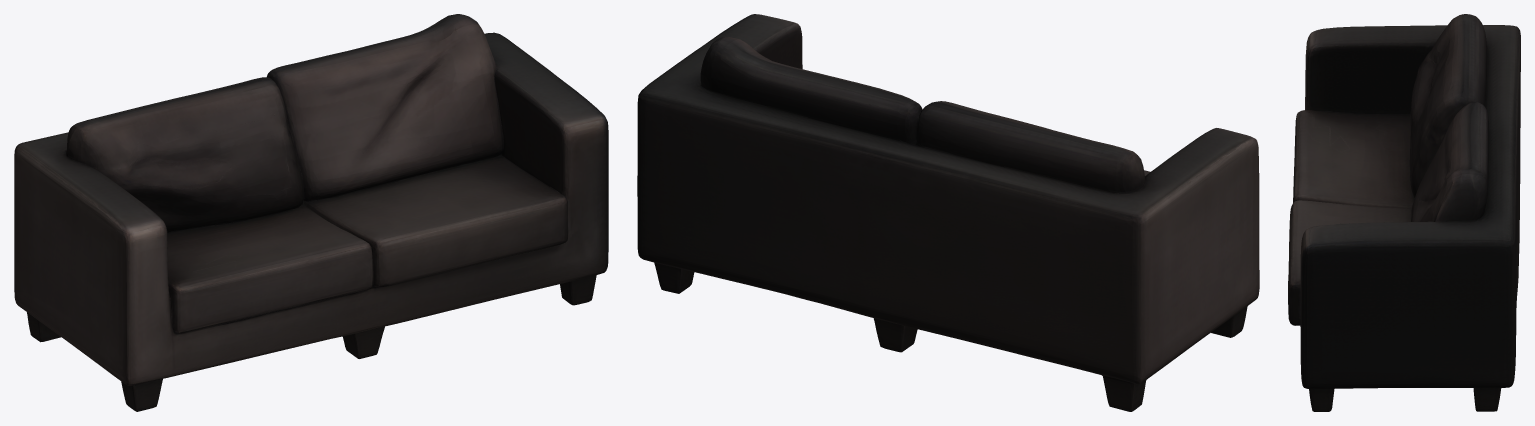
3 renders of one model, left to right at view 1: azimuth 30°, elevation 25°; view 2: azimuth 150°, elevation 25°; view 3: azimuth 270°, elevation 25°, orthographic. The views are drawn at different scales.
Parts seen in each view (by area): view 1: world; view 2: world; view 3: world.
Part boxes in pixels (x1,y1,x2,y2): world: (14, 14, 608, 411); world: (637, 14, 1259, 411); world: (1288, 14, 1520, 411).
Bounding box in the file's own units: 1.82 × 0.85 × 0.818.
Materials: 1 (1 with a texture image).
